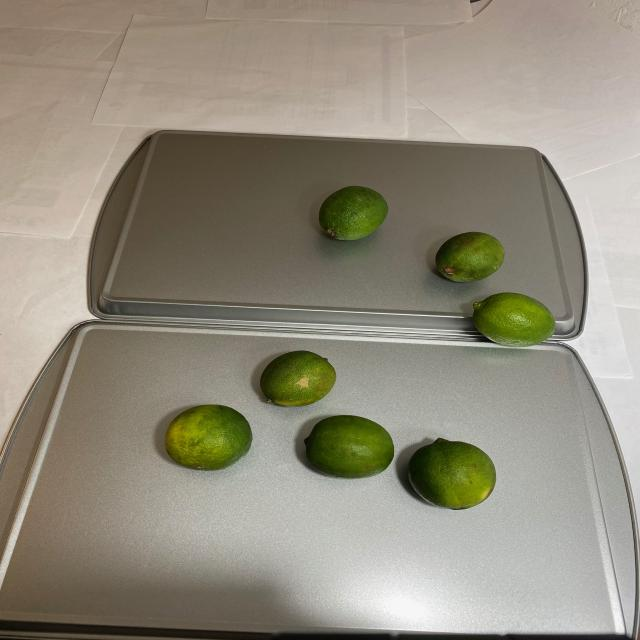lemon: (160, 350, 497, 513), (320, 184, 555, 352)
